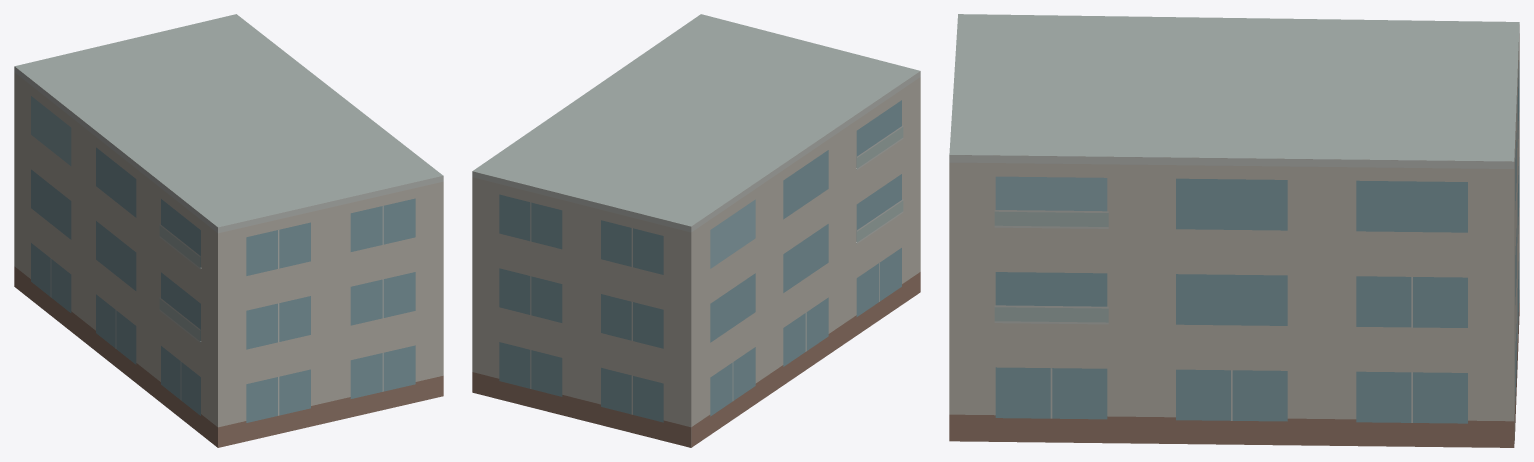
The model's file is survey-upis-32668201.glb.
3 views of the same model, side by side, from view 1: azimuth 30°, elevation 25°; view 2: azimuth 150°, elevation 25°; view 3: azimuth 270°, elevation 25° (orthographic). The views are drawn at different scales.
Visible parts, largest first — view 1: survey-upis-32668201.tmp; view 2: survey-upis-32668201.tmp; view 3: survey-upis-32668201.tmp.
Part boxes in pixels (x1=…): survey-upis-32668201.tmp: x1=14, y1=14, x2=443, y2=447; survey-upis-32668201.tmp: x1=472, y1=14, x2=920, y2=447; survey-upis-32668201.tmp: x1=949, y1=14, x2=1519, y2=447.
Size of the model in its own units: 10.11 by 9.15 by 16.52.
